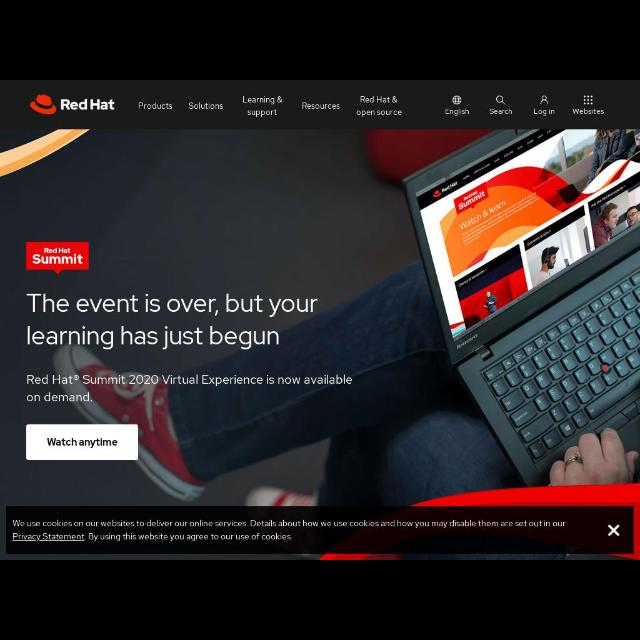backgroundimage: (1, 130, 640, 558)
icon: (604, 522, 622, 540), (582, 94, 594, 106), (494, 95, 506, 105), (538, 96, 550, 106), (452, 96, 462, 104)
image: (24, 241, 90, 277), (28, 92, 118, 116)
panel: (6, 506, 634, 552)
text: (24, 291, 318, 351), (13, 519, 567, 543), (24, 373, 352, 411), (357, 95, 403, 117), (242, 95, 282, 117), (30, 253, 84, 264), (188, 100, 225, 110), (302, 102, 341, 110), (137, 102, 173, 110), (571, 108, 605, 116), (41, 246, 71, 254), (444, 108, 470, 116), (532, 108, 556, 116), (488, 109, 512, 115)
textbutton: (24, 423, 140, 462)
toolbar: (1, 81, 639, 129)
